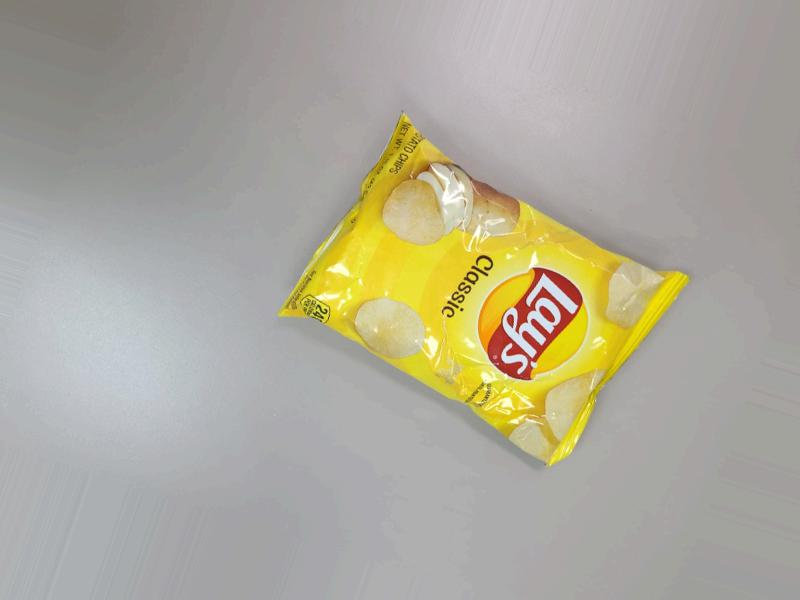lays: (278, 98, 692, 491)
